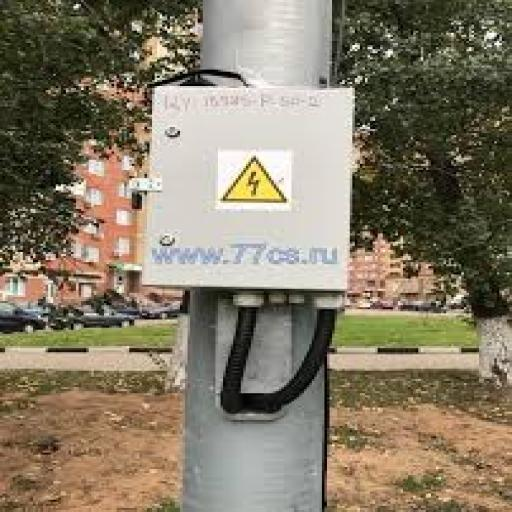odn_pole: (137, 0, 355, 510)
